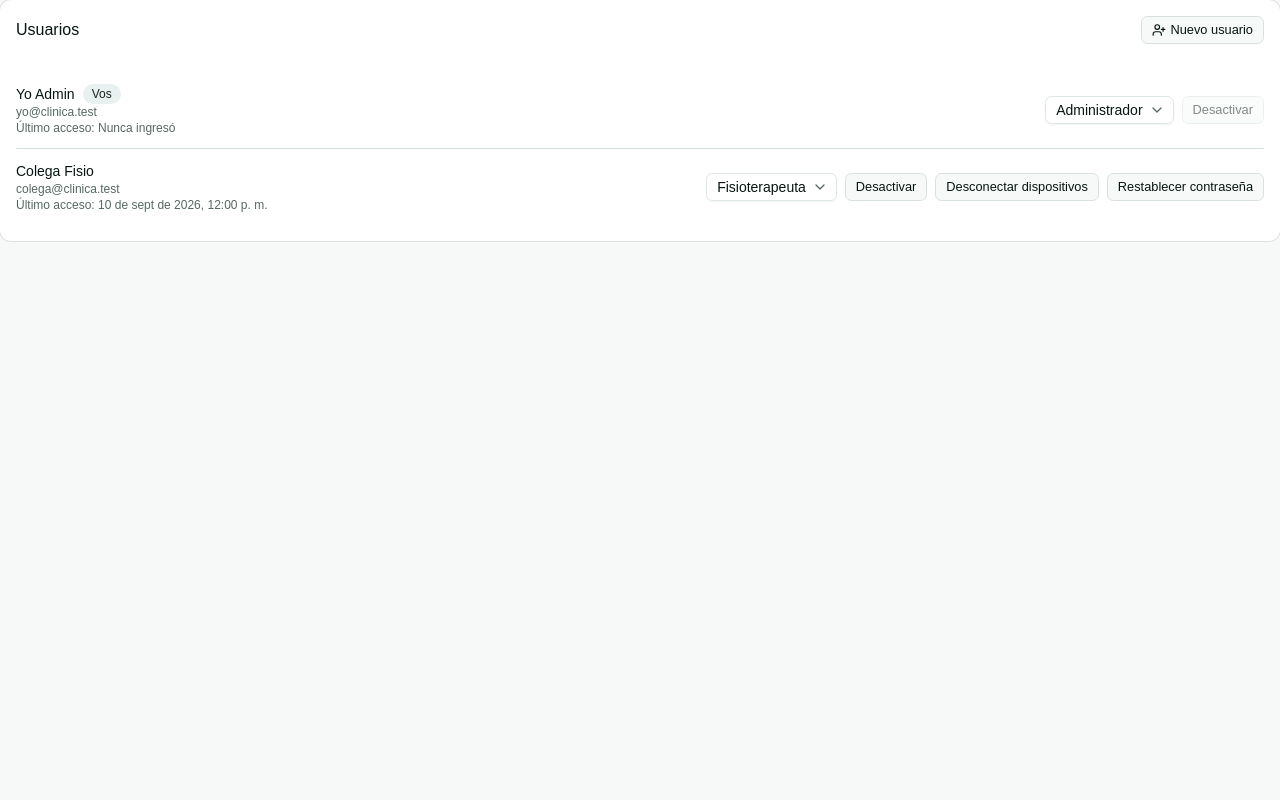
Test: UsersCard: password reset › shows the server message on failure, and no link
What coordinates should you click on to do the following:
click the button "Restablecer contraseña"
I would click on:
 (1185, 187)
Its box is [1107,173,1264,201].
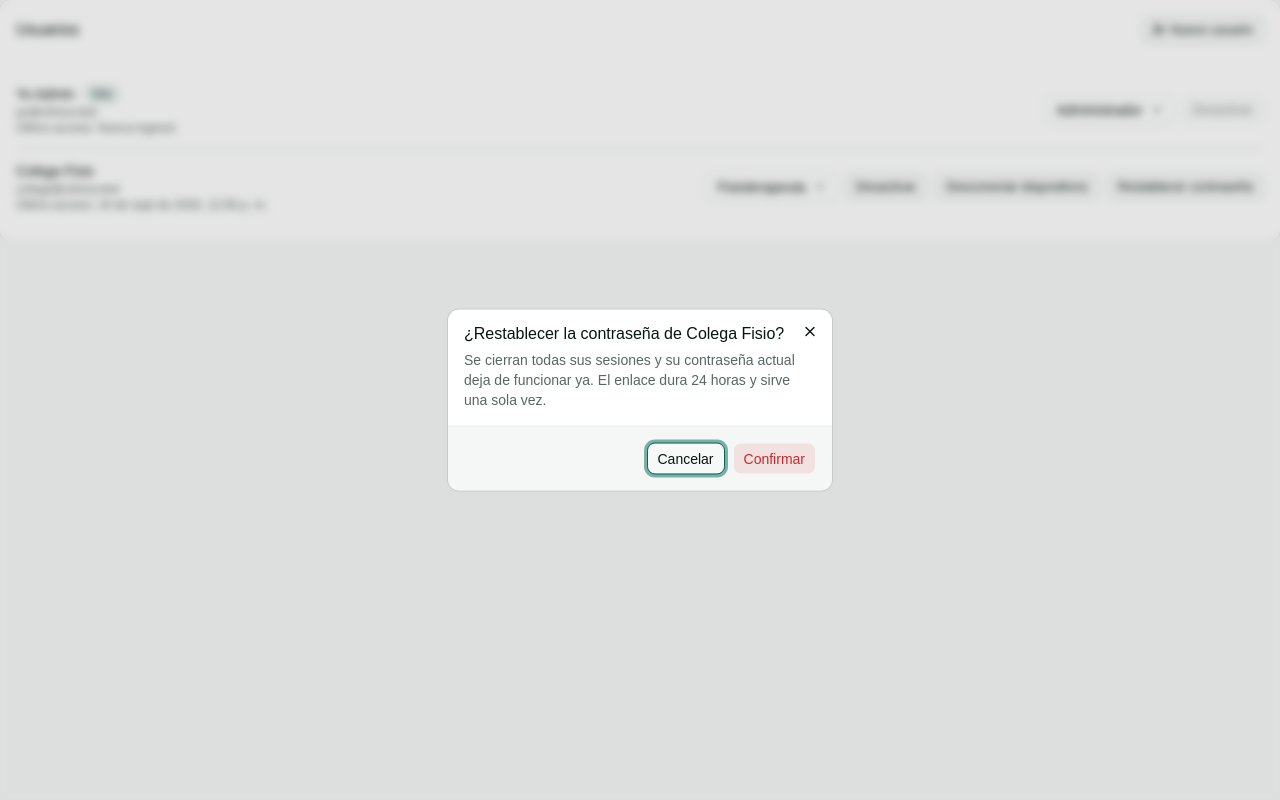
What coordinates should you click on to do the following:
click the button "Confirmar"
I would click on:
 (774, 458)
Its box is [732,442,816,474].
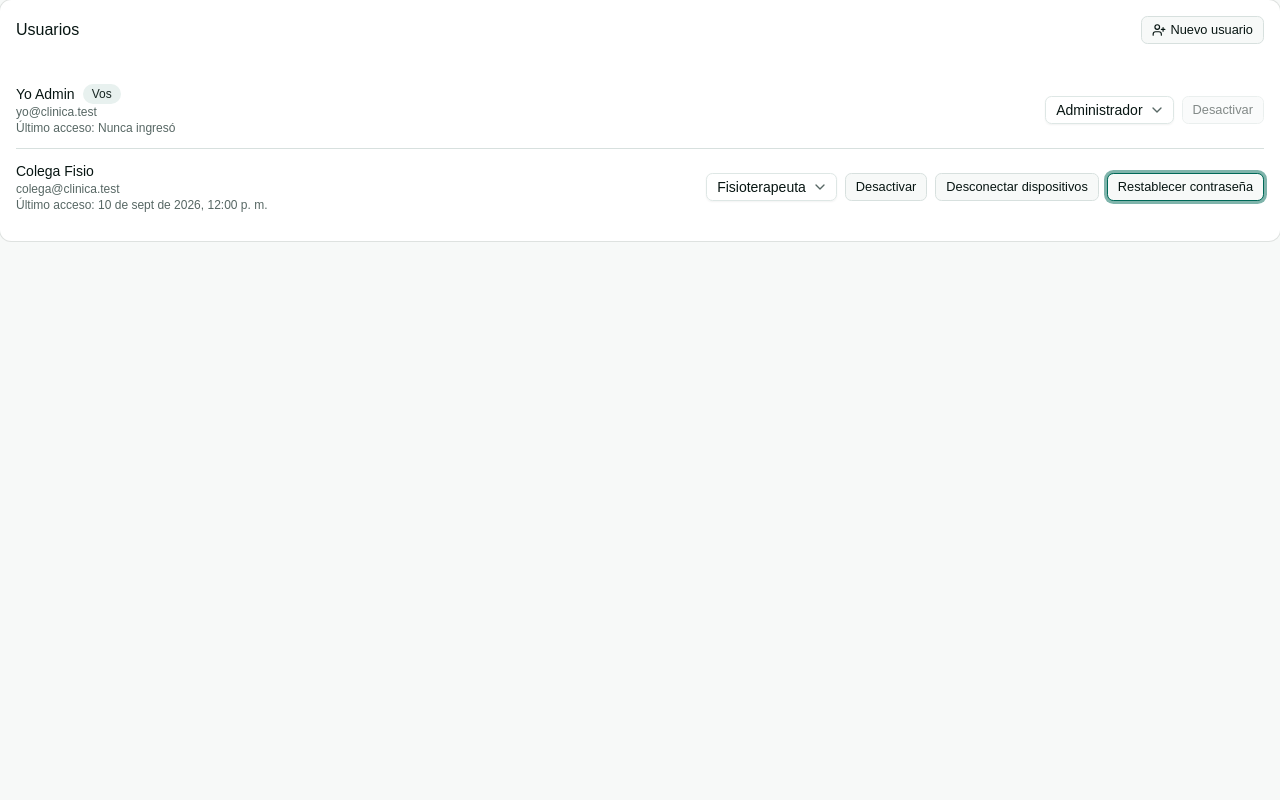
Now the dialog is gone
